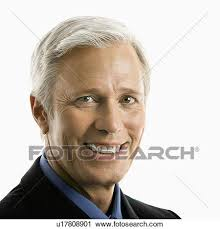white_male: (50, 60, 145, 174)
